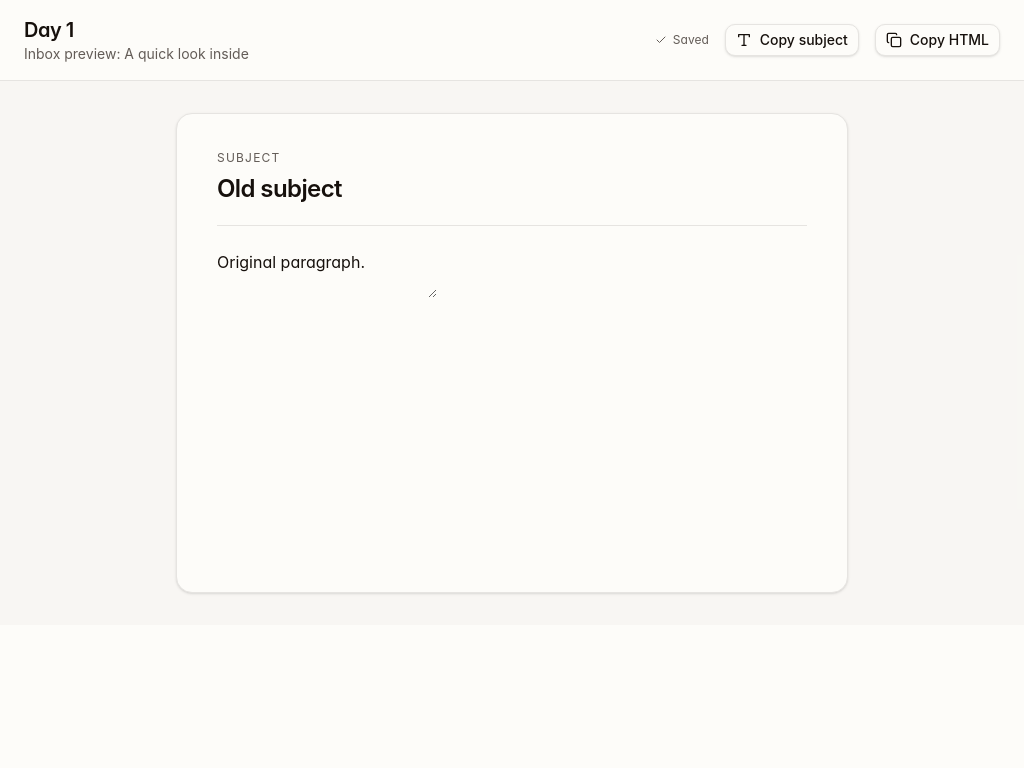
Test: EmailPreview copy › says the copy failed instead of Copied when the browser refuses
This screenshot has width=1024, height=768.
What coordinates should you click on to do the following:
click the button "Copy HTML"
I would click on:
 (937, 40)
Its box is [875,24,1000,56].
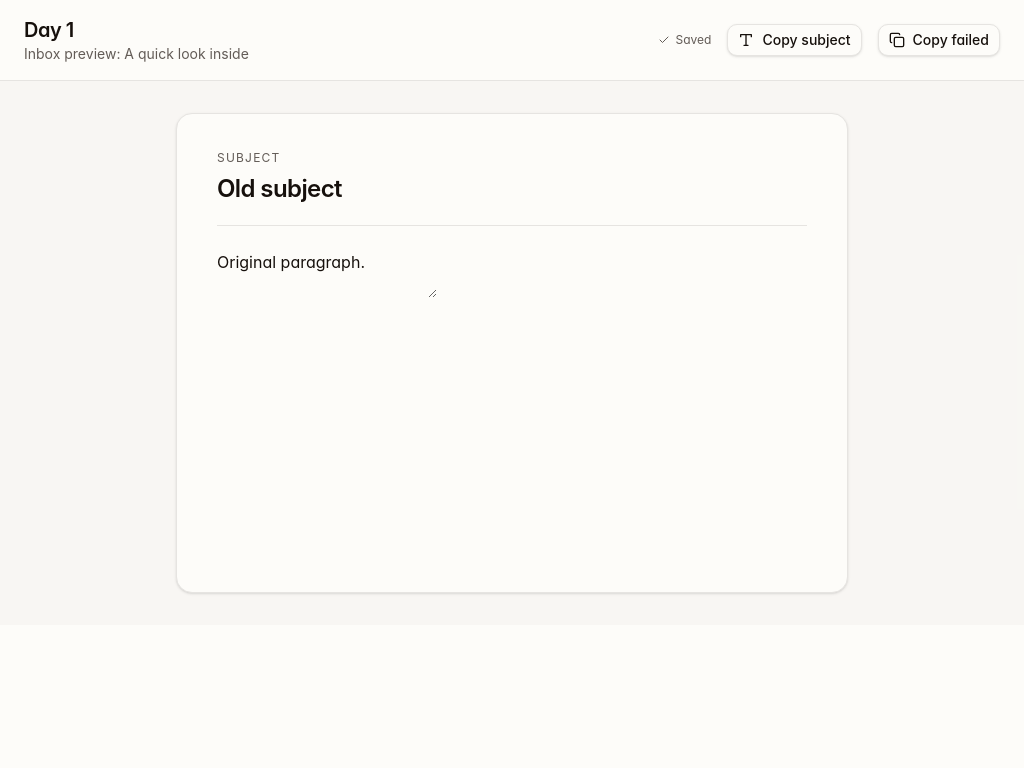
Now the text "Copy failed" is shown, box [913,30,989,50]
